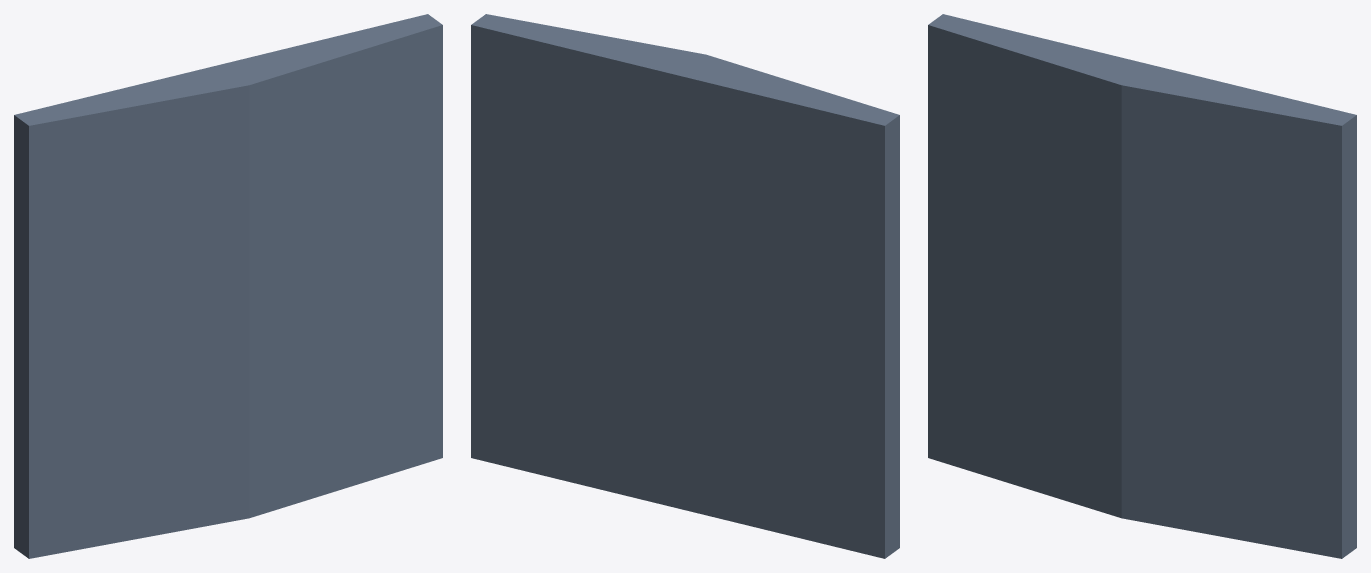
The model's file is hill_entry.obj.
3 renders of one model, left to right at view 1: azimuth 30°, elevation 25°; view 2: azimuth 150°, elevation 25°; view 3: azimuth 330°, elevation 25°, orthographic.
Parts seen in each view (by area): view 1: solid_terrain; view 2: solid_terrain; view 3: solid_terrain.
Boxes of the visible parts, x1,y1,x2,y2 form: solid_terrain: (14,14,442,558); solid_terrain: (471,14,899,558); solid_terrain: (928,14,1356,558).
Bounding box in the file's own units: 3.2 × 3.2 × 0.38.
